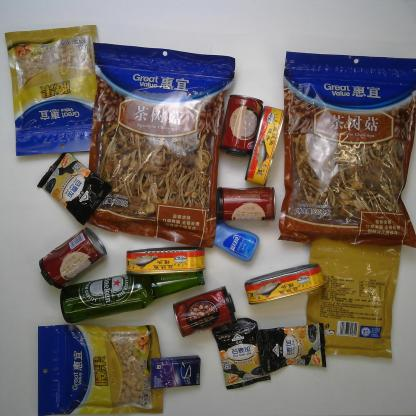Alcohol: (60, 270, 205, 324)
Canned Food: (39, 228, 105, 289), (245, 264, 325, 305), (172, 286, 235, 338), (245, 106, 285, 185), (218, 93, 263, 158), (125, 248, 206, 274), (217, 187, 277, 221)
Dried Food: (83, 42, 236, 247), (276, 51, 416, 248)
Dried Fruit: (4, 24, 110, 157), (306, 230, 403, 358), (36, 324, 164, 413)
Gum: (152, 356, 202, 389)
Instant Drink: (36, 150, 112, 226), (212, 318, 270, 388), (257, 323, 327, 374)
Personal Hygiene: (200, 221, 258, 261)
